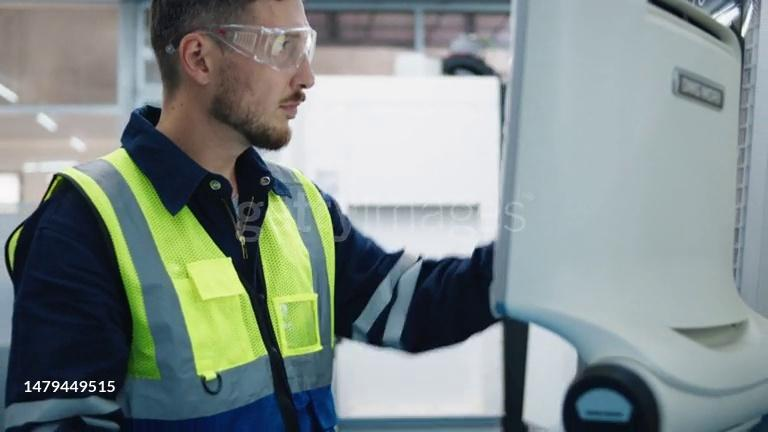person: (2, 1, 510, 432)
